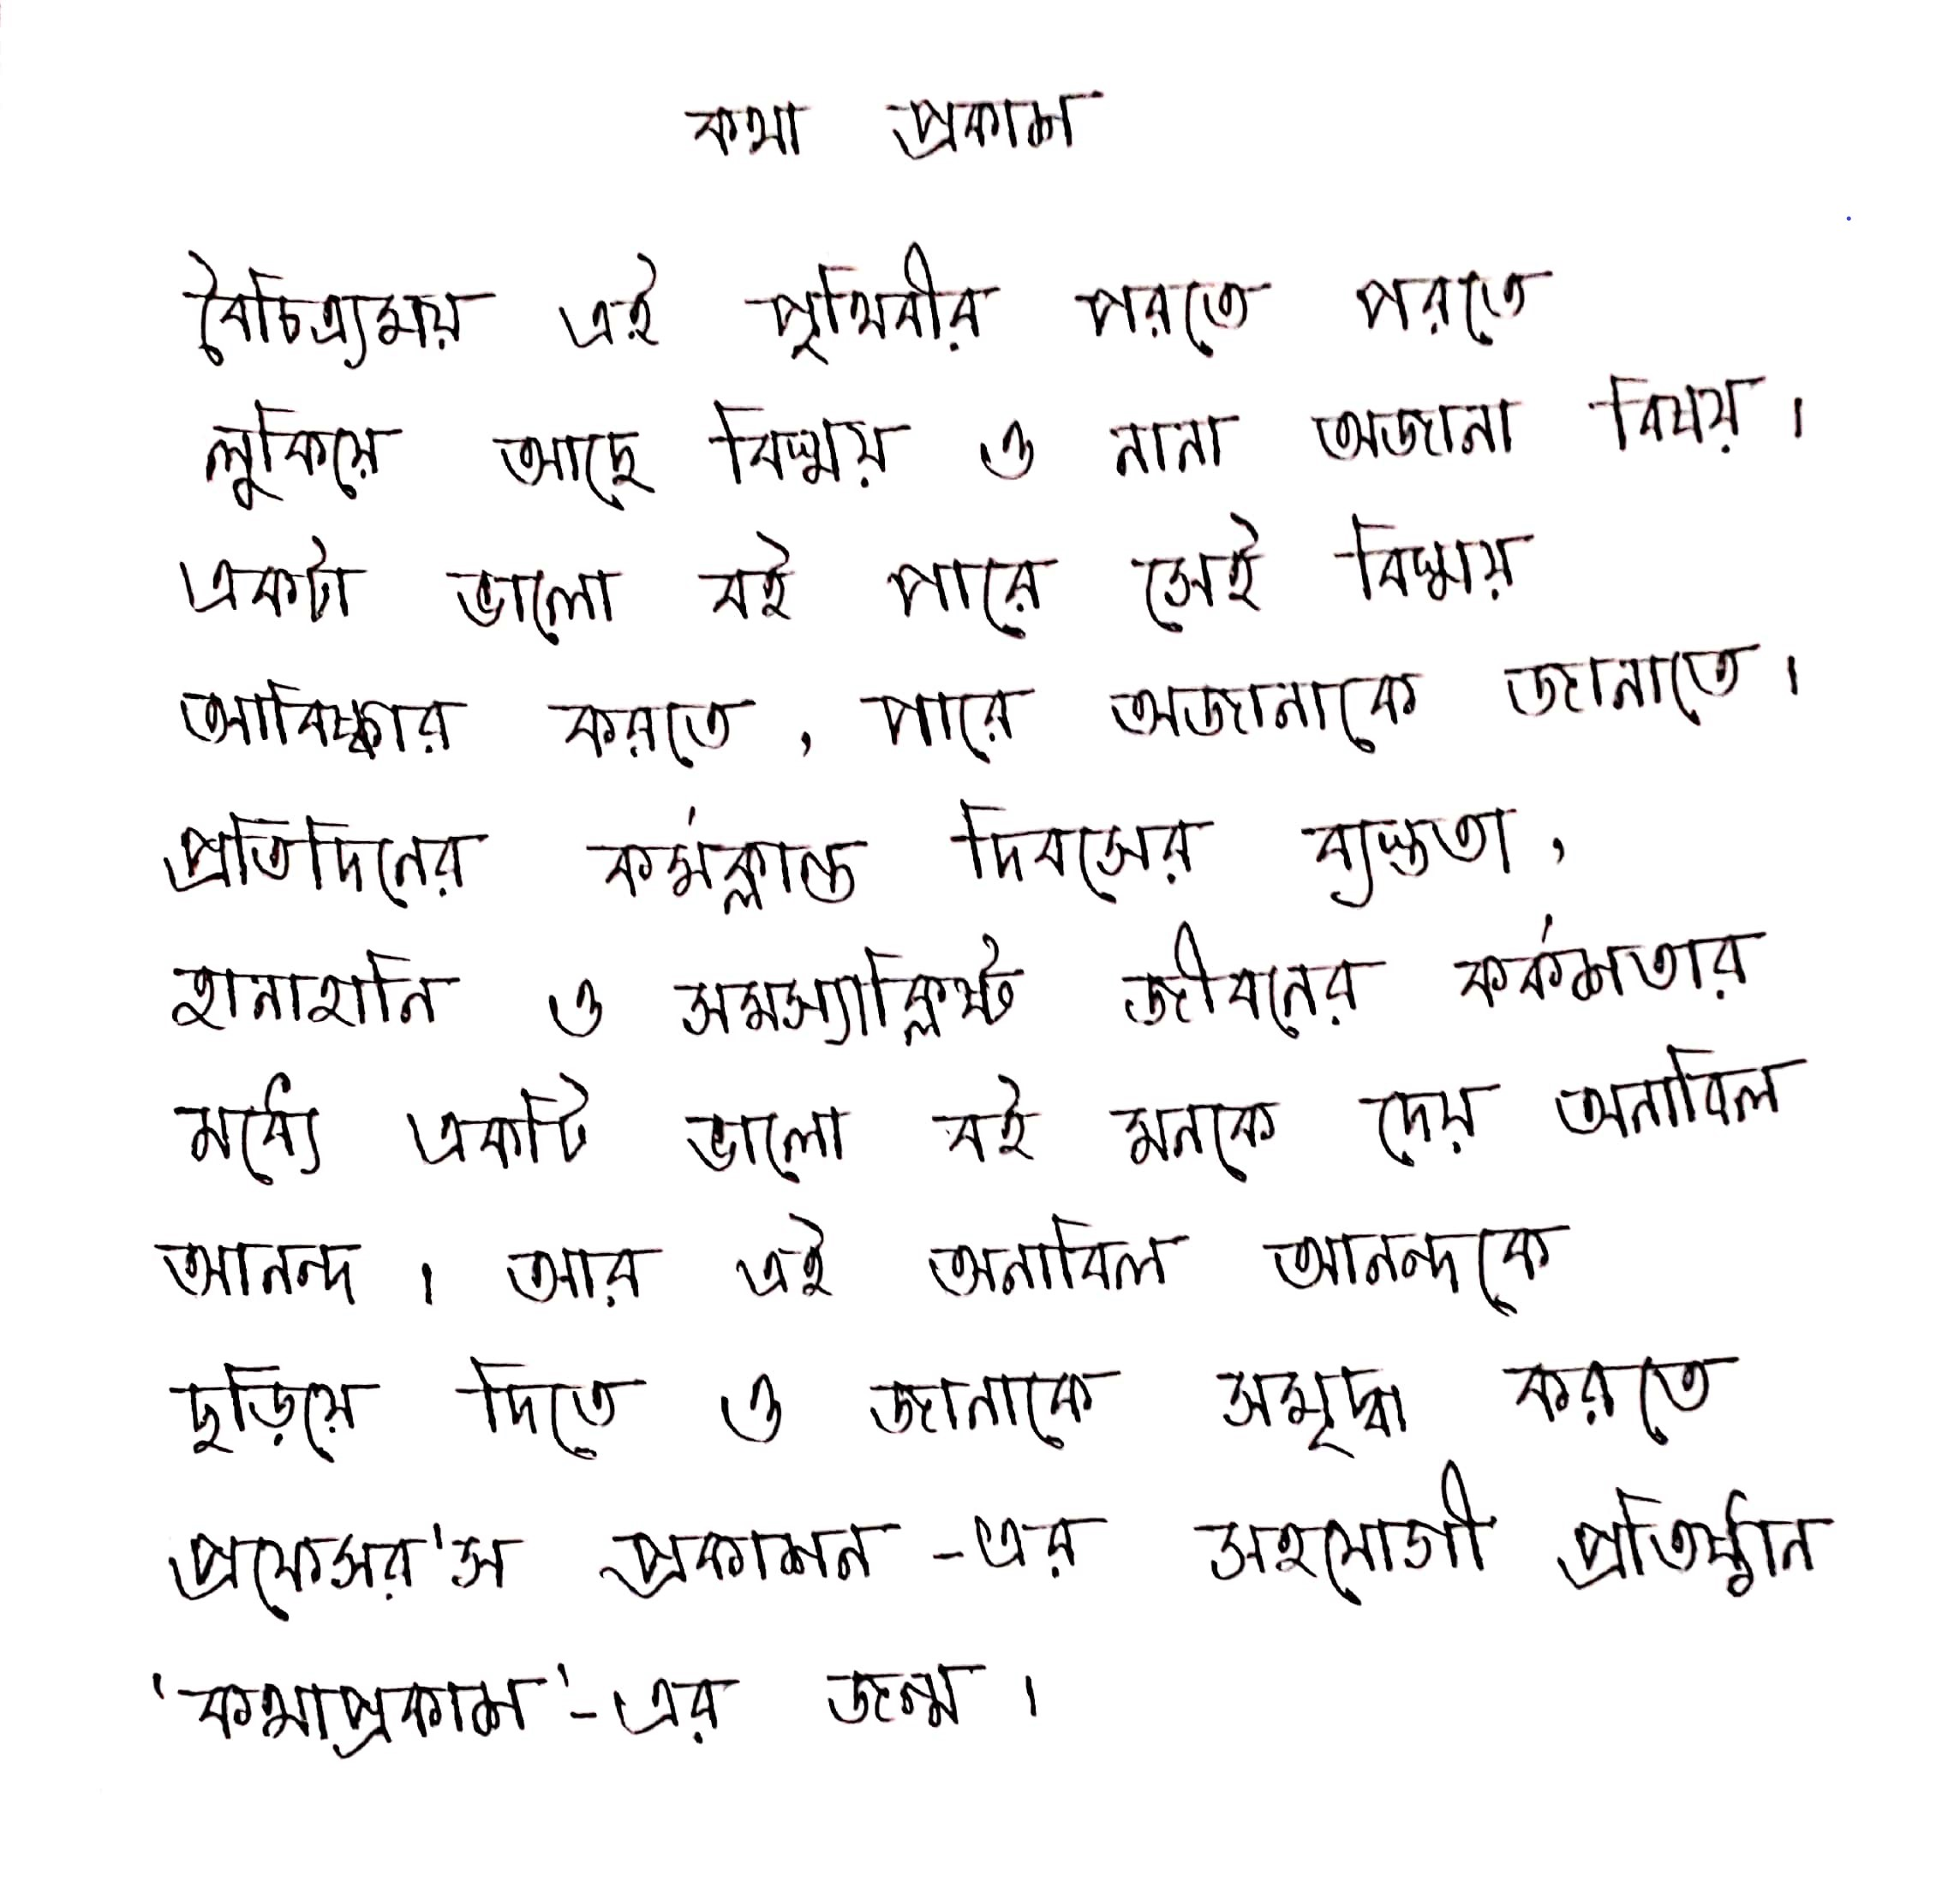line: (170, 1456, 1829, 1619), (201, 362, 1809, 511), (170, 1041, 1809, 1186), (173, 908, 1767, 1055), (182, 633, 1820, 773), (173, 1353, 1739, 1470), (180, 511, 1535, 646), (180, 241, 1557, 371), (166, 796, 1570, 919), (161, 1214, 1570, 1311), (143, 1659, 1043, 1759), (681, 87, 1104, 157)
